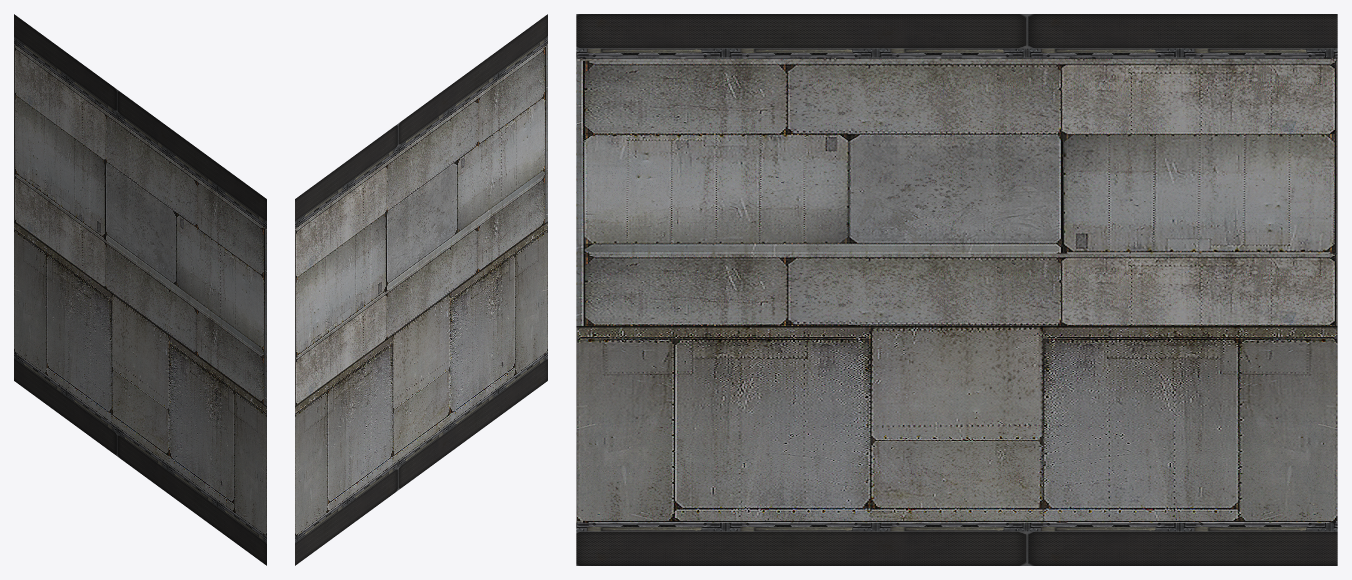
The model's file is Wall_A_Mid4mts_07.fbx.
3 renders of one model, left to right at view 1: azimuth 30°, elevation 25°; view 2: azimuth 150°, elevation 25°; view 3: azimuth 270°, elevation 25°, orthographic. The views are drawn at different scales.
Visible parts, largest first — view 1: Wall_A_Mid4mts_07; view 2: Wall_A_Mid4mts_07; view 3: Wall_A_Mid4mts_07.
Part boxes in pixels (left/top/right/bottom): Wall_A_Mid4mts_07: left=14, top=14, right=266, bottom=565; Wall_A_Mid4mts_07: left=295, top=14, right=547, bottom=565; Wall_A_Mid4mts_07: left=576, top=14, right=1337, bottom=565.
Bounding box in the file's own units: 0.000244 × 400 × 500.
Materials: 1 (1 with a texture image).
